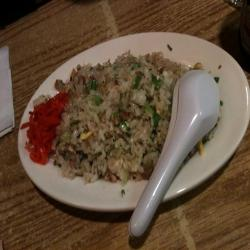rice: (49, 61, 187, 179)
